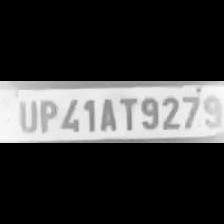1: (80, 96, 96, 132)
2: (158, 94, 180, 130)
4: (57, 96, 81, 132)
7: (178, 92, 200, 130)
9: (137, 94, 159, 130), (201, 92, 221, 128)
A: (96, 96, 118, 132)
P: (36, 96, 56, 132)
T: (117, 95, 137, 131)
U: (14, 97, 36, 133)
